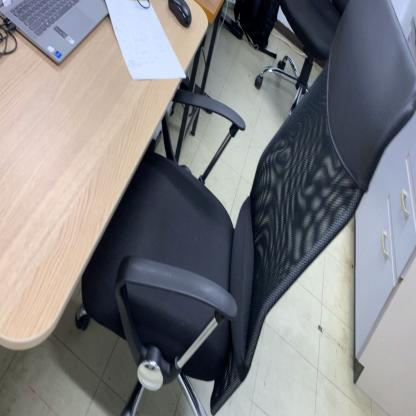chair: (74, 0, 416, 414)
